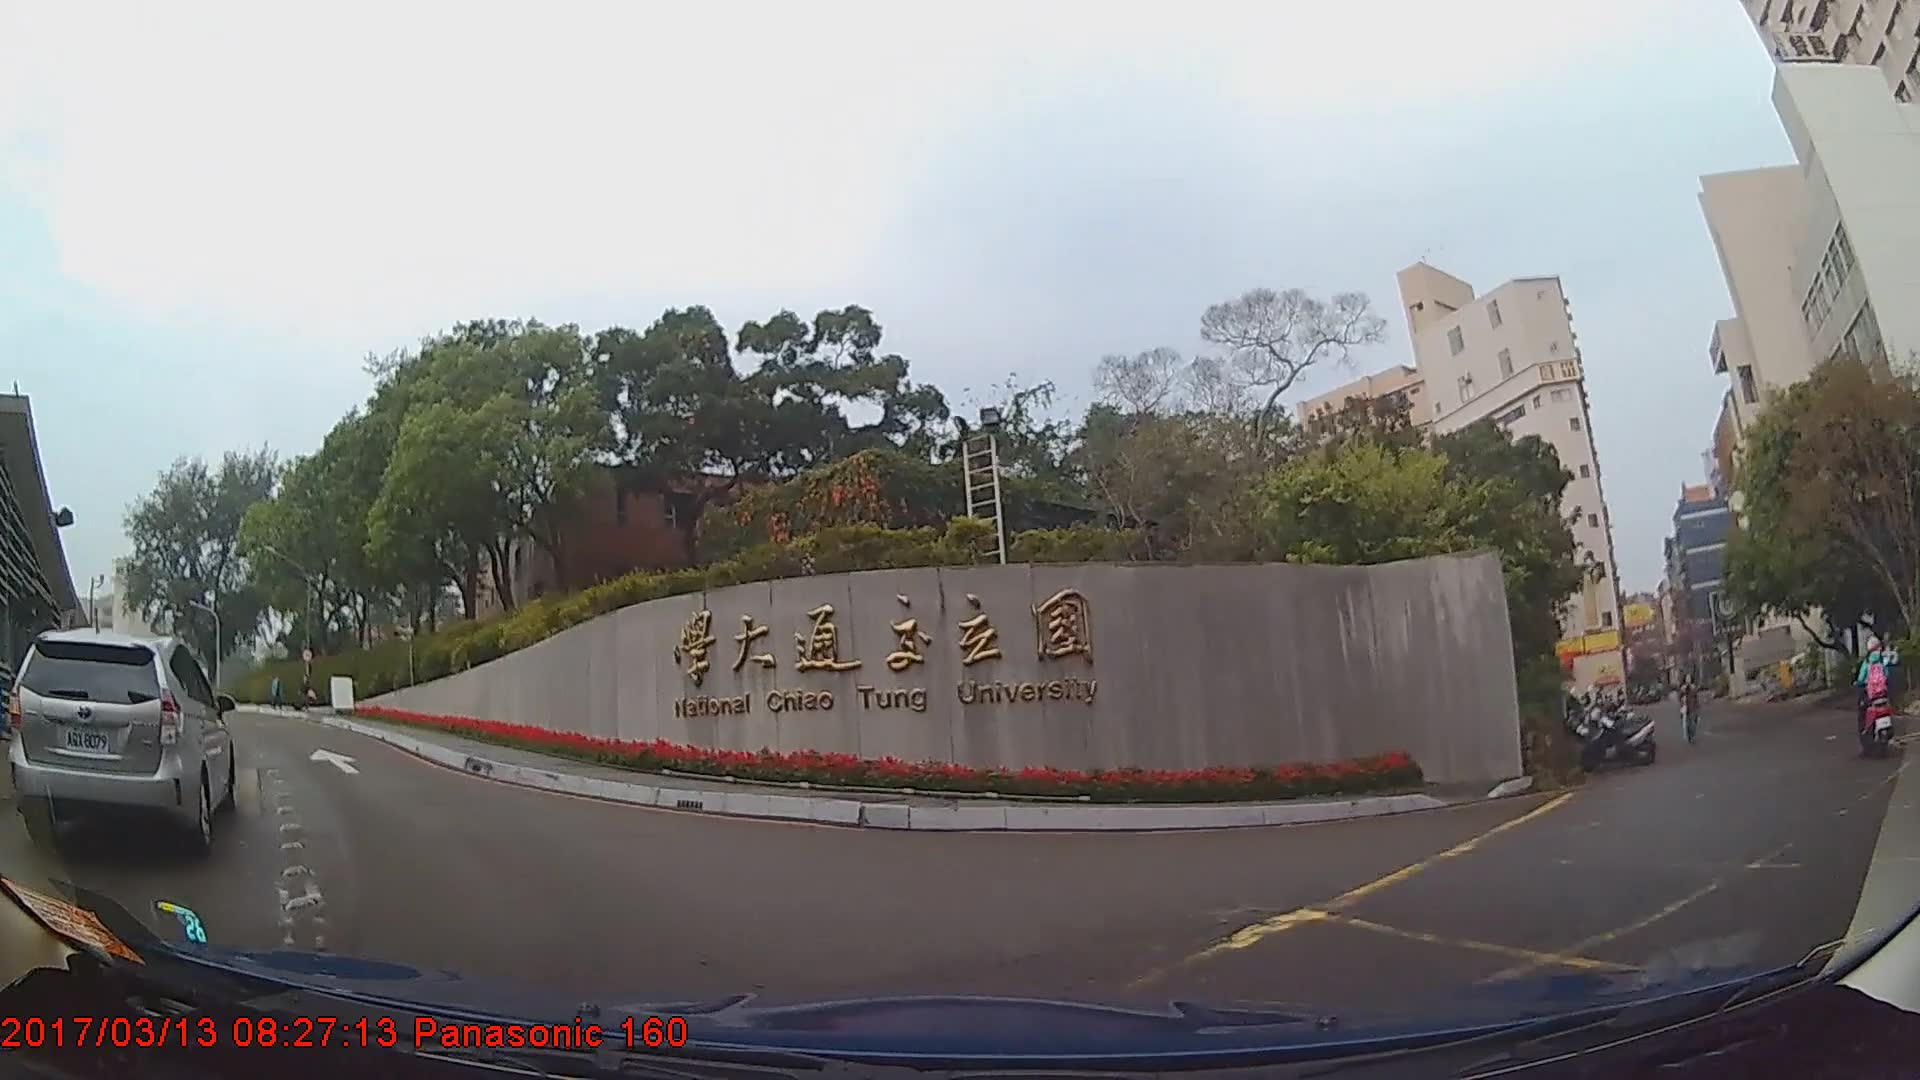pedestrian: (1678, 676, 1705, 748)
rider: (1856, 640, 1897, 757)
vehicle: (8, 628, 234, 857)
